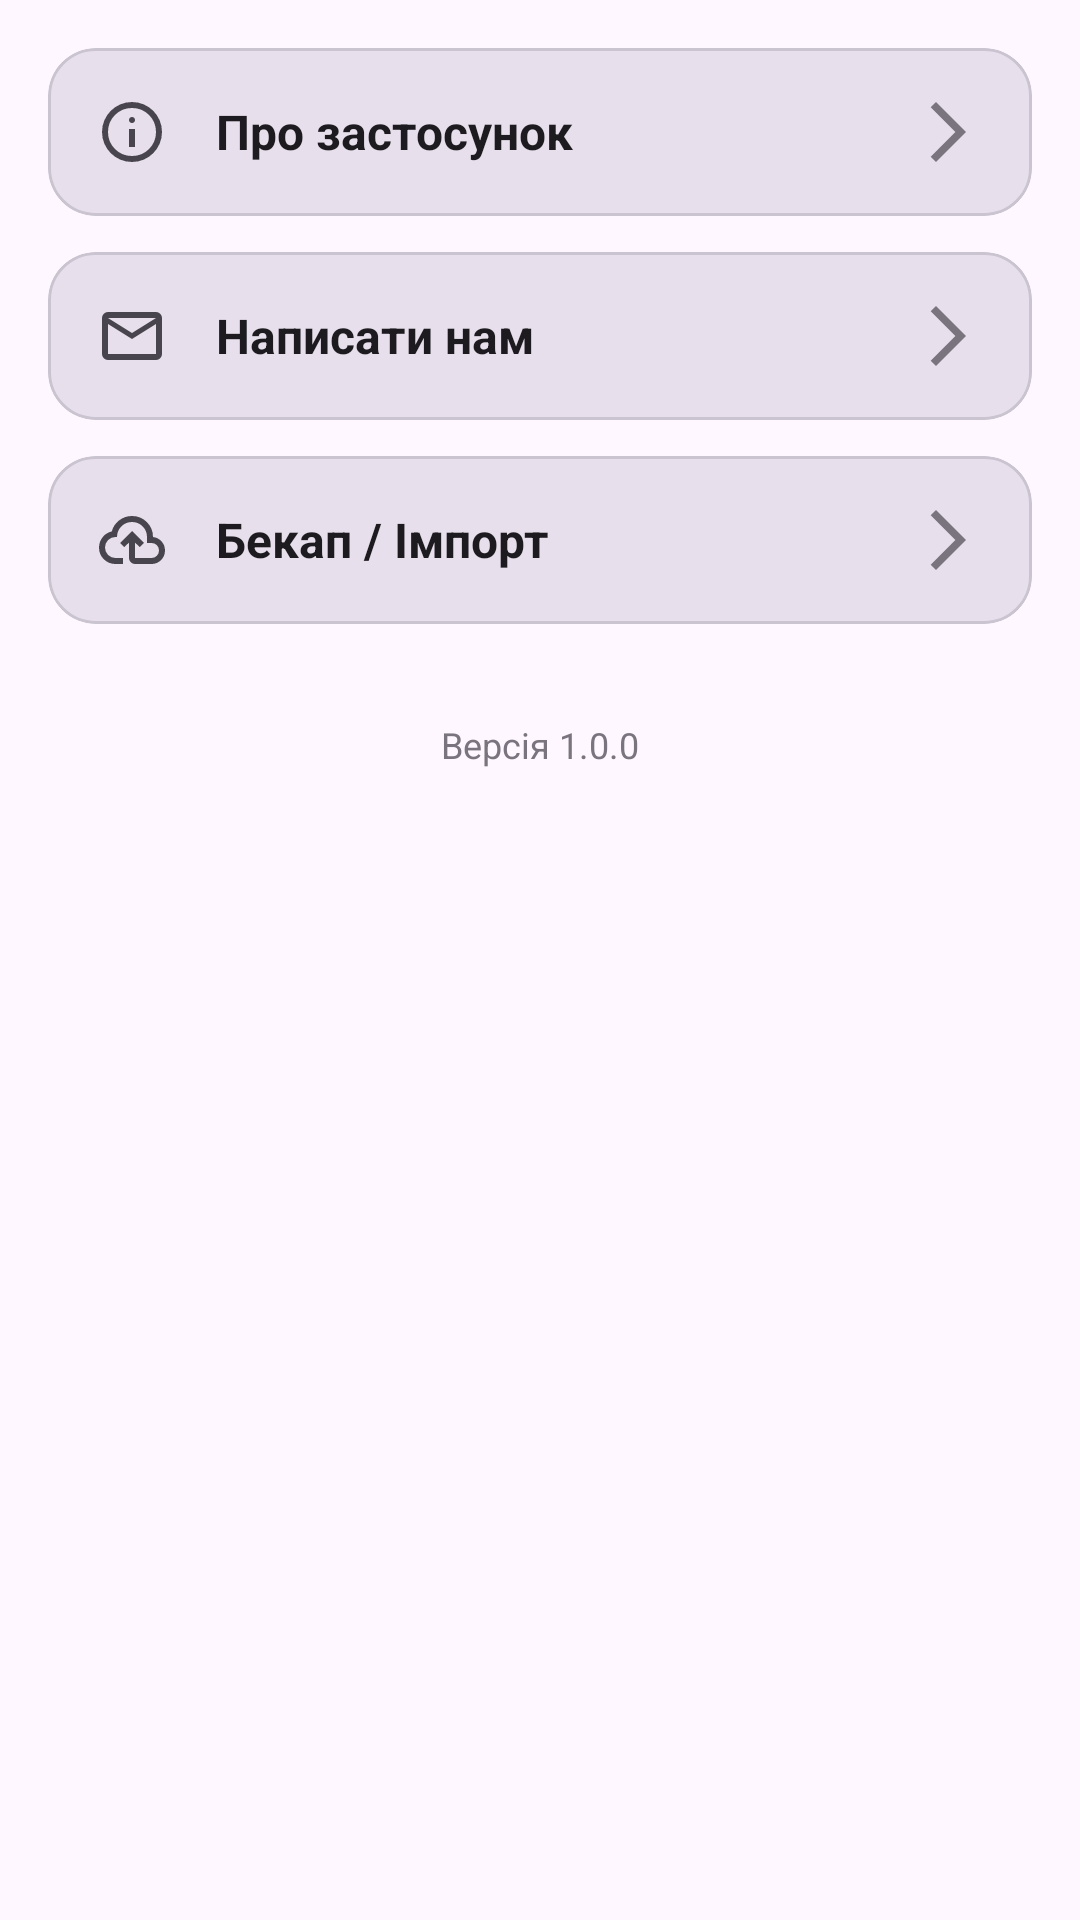

Icons on this 1080w x 1920h Android screen, each with its box as (x1, y1, x2, y2):
backup: (99, 516, 165, 564)
email: (102, 312, 162, 360)
info: (102, 102, 162, 162)
